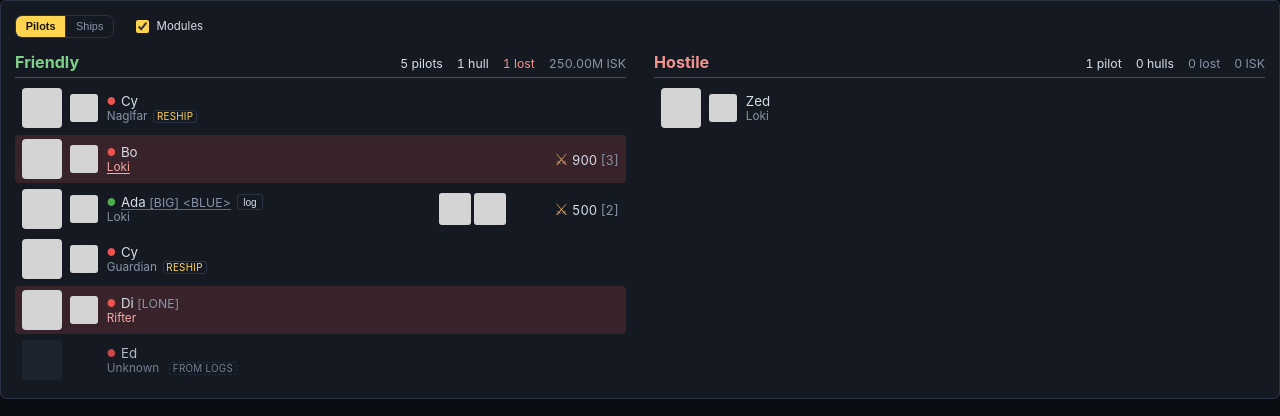
Test case: InvolvedTab › shows the hull composition on request, with the unknown from-logs row
The image size is (1280, 416).
Expected: the element with test id "involved-friendly" is shown, [15, 52, 626, 384]
Click the button "Ships" at coordinates (90, 26), box [66, 16, 113, 37]
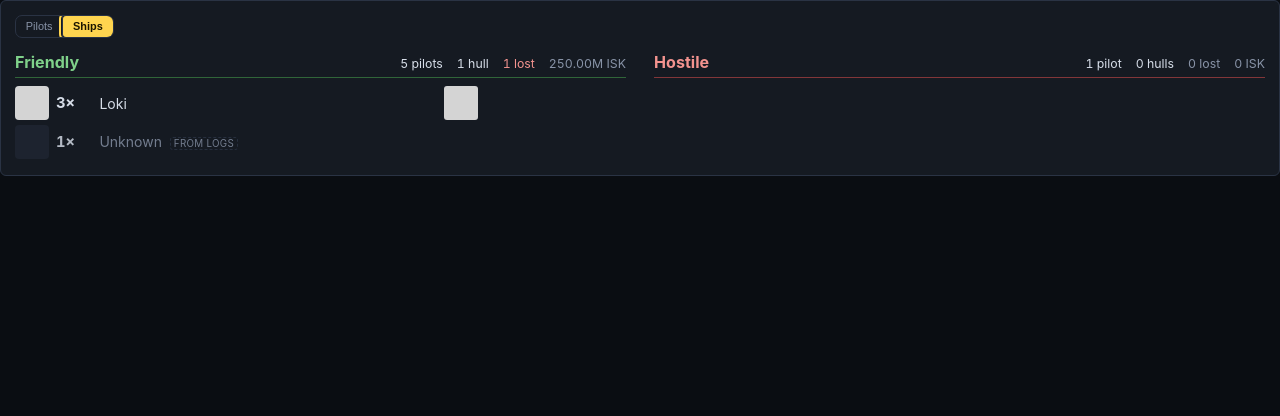
Result: the element with test id "involved-friendly" shows "3×" at [15, 52, 626, 161]
Result: the element with test id "from-logs-unknown" shows "1×" at [15, 125, 238, 159]
Result: the label "Modules" is gone
